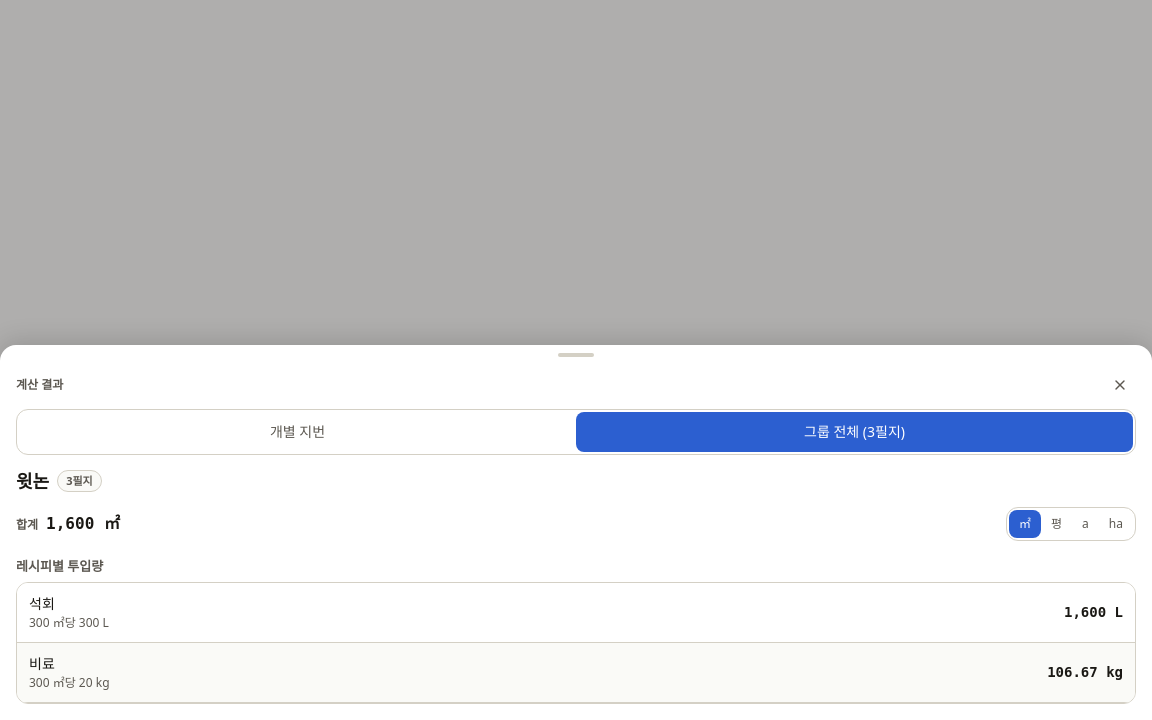
Test: AC-8: 그룹 소속 필지 — 기본 그룹 전체(known 합산) + 개별 전환 시 재계산·강조 해제 › '개별 지번' 전환 시 해당 필지 면적으로 재계산되고 selectedGroupId가 해제된다
Expected: the text "1,600 ㎡" is shown, [46,514,120,533]
Click the button "개별 지번" at (298, 432), box [19,412,576,452]
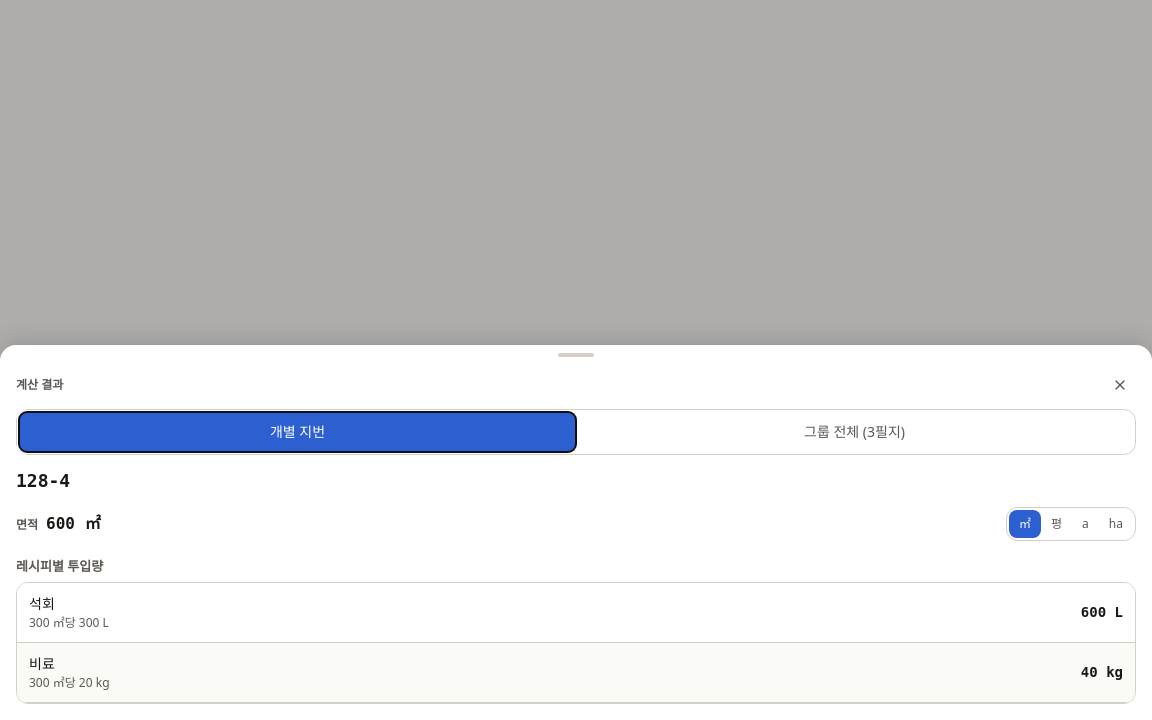
Expected: the text "600 ㎡" is shown, [46,514,101,533]
Result: the heading "128-4" is shown at [16,466,70,494]
